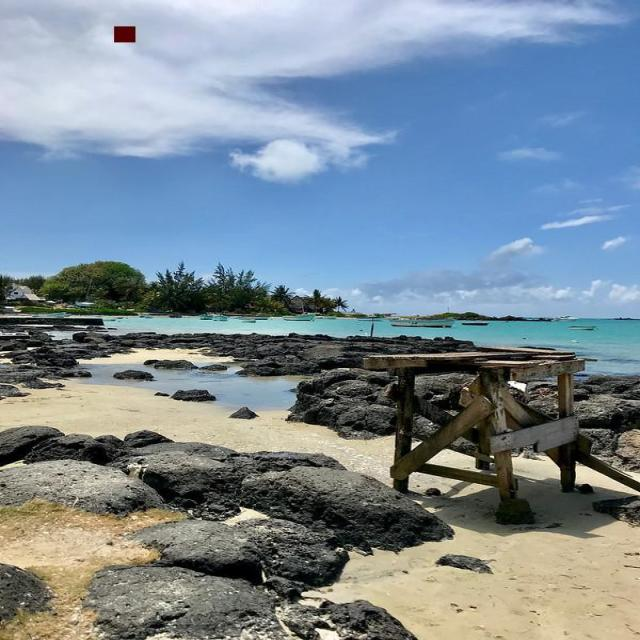RedSquare: (110, 22, 140, 44)
